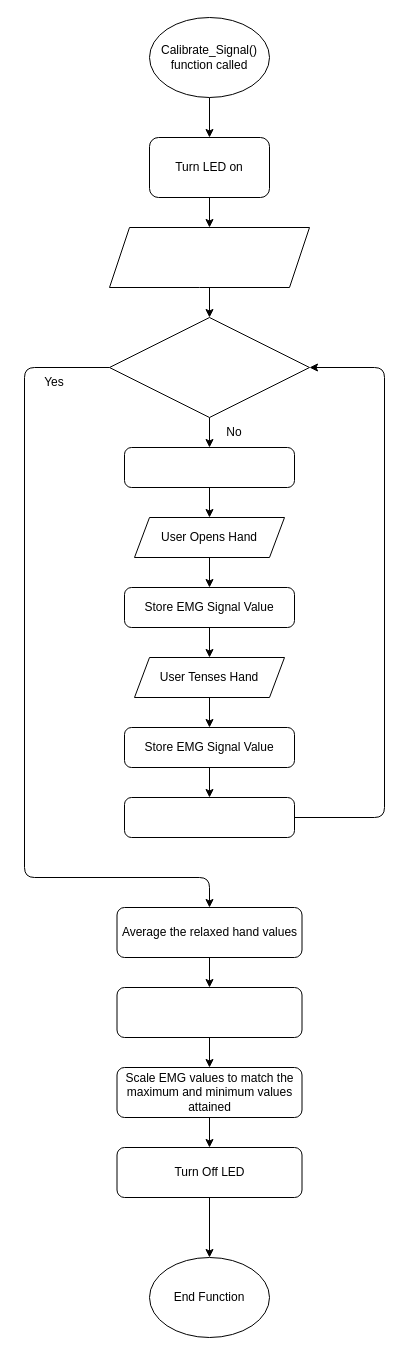
Image size: 410x1355. Some labels were removed from this diagram. Here are the shapes that lost their labels. From the top down, the centre of each, then its label:
At point 209,257: "Calibration Button Pressed".
At point 209,367: "Loop Counter == calibrationCycleCount?".
At point 209,467: "Set Loop Counter to 0".
At point 209,817: "Increment Loop Counter".
At point 209,1012: "Average the tensed hand values".
